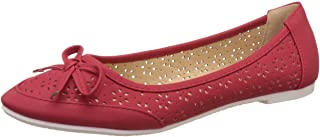shoes: (1, 1, 320, 136)
